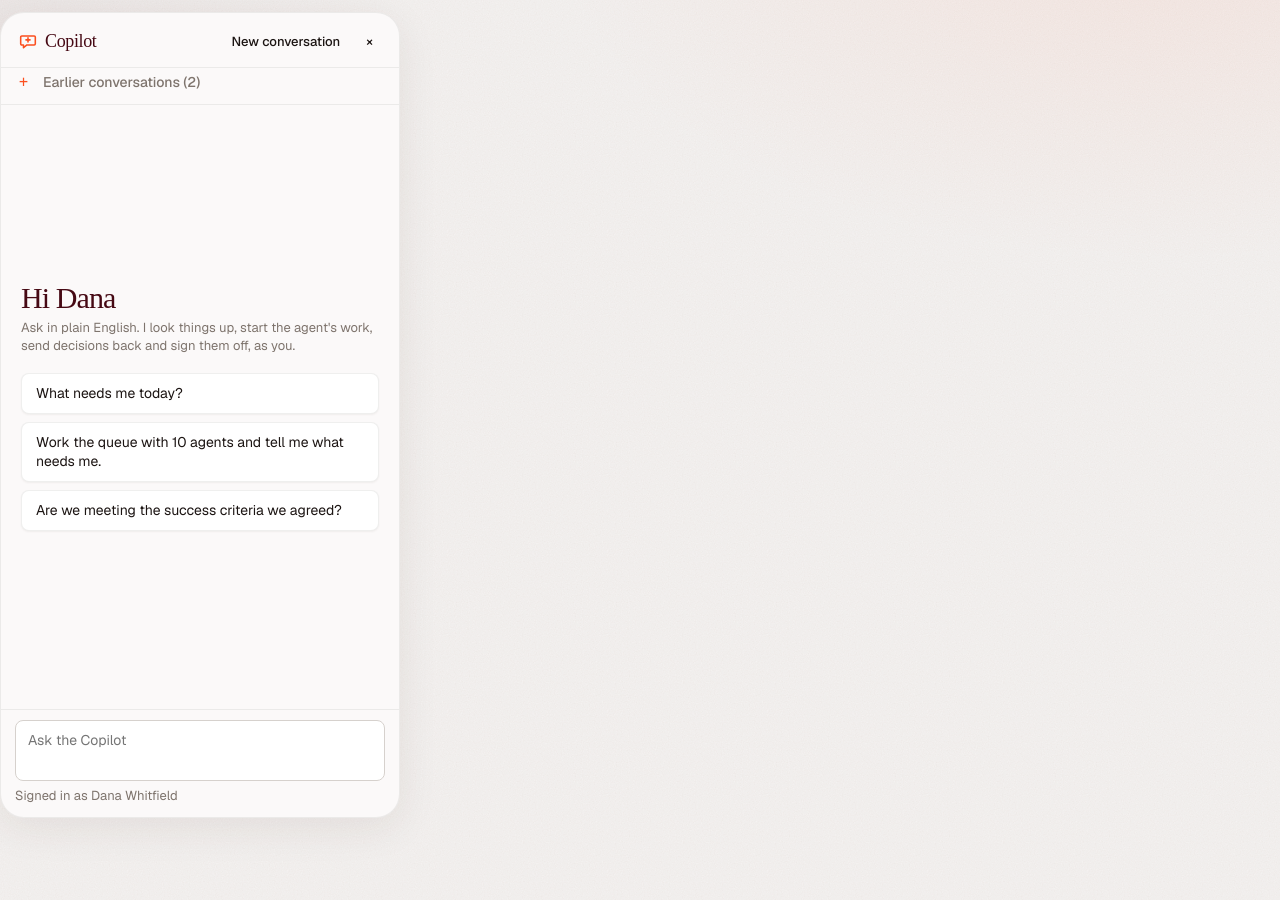
Test: the Copilot sidebar › lists earlier conversations by their first question and opens one
Click the heading "Earlier conversations (2)". click: (122,82)
box: x1=43 y1=73 x2=200 y2=91
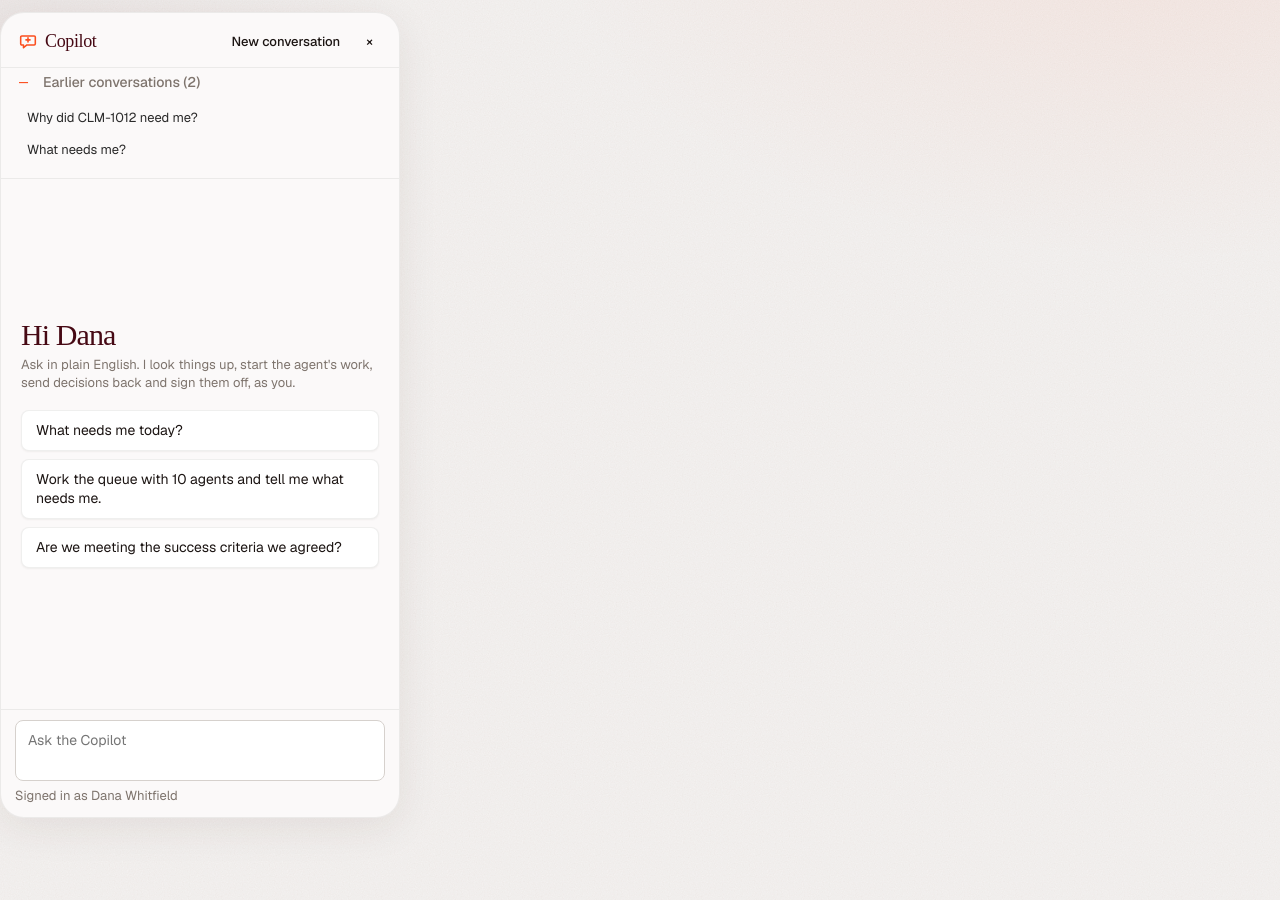
Click the button "Why did CLM-1012 need me?". click: (200,118)
box: x1=19 y1=102 x2=381 y2=134
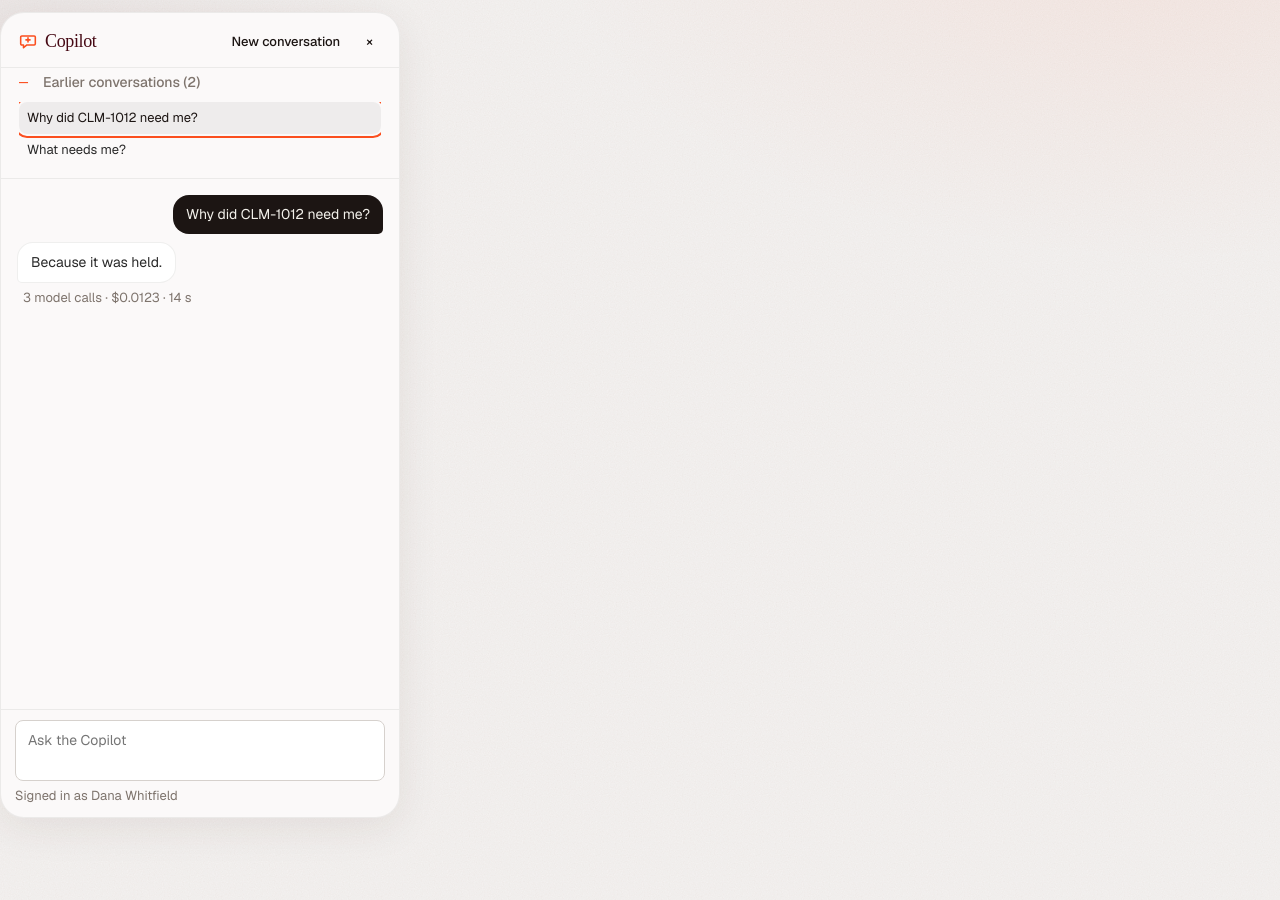
Expected: the text "Because it was held." is shown, x1=31 y1=252 x2=162 y2=273
